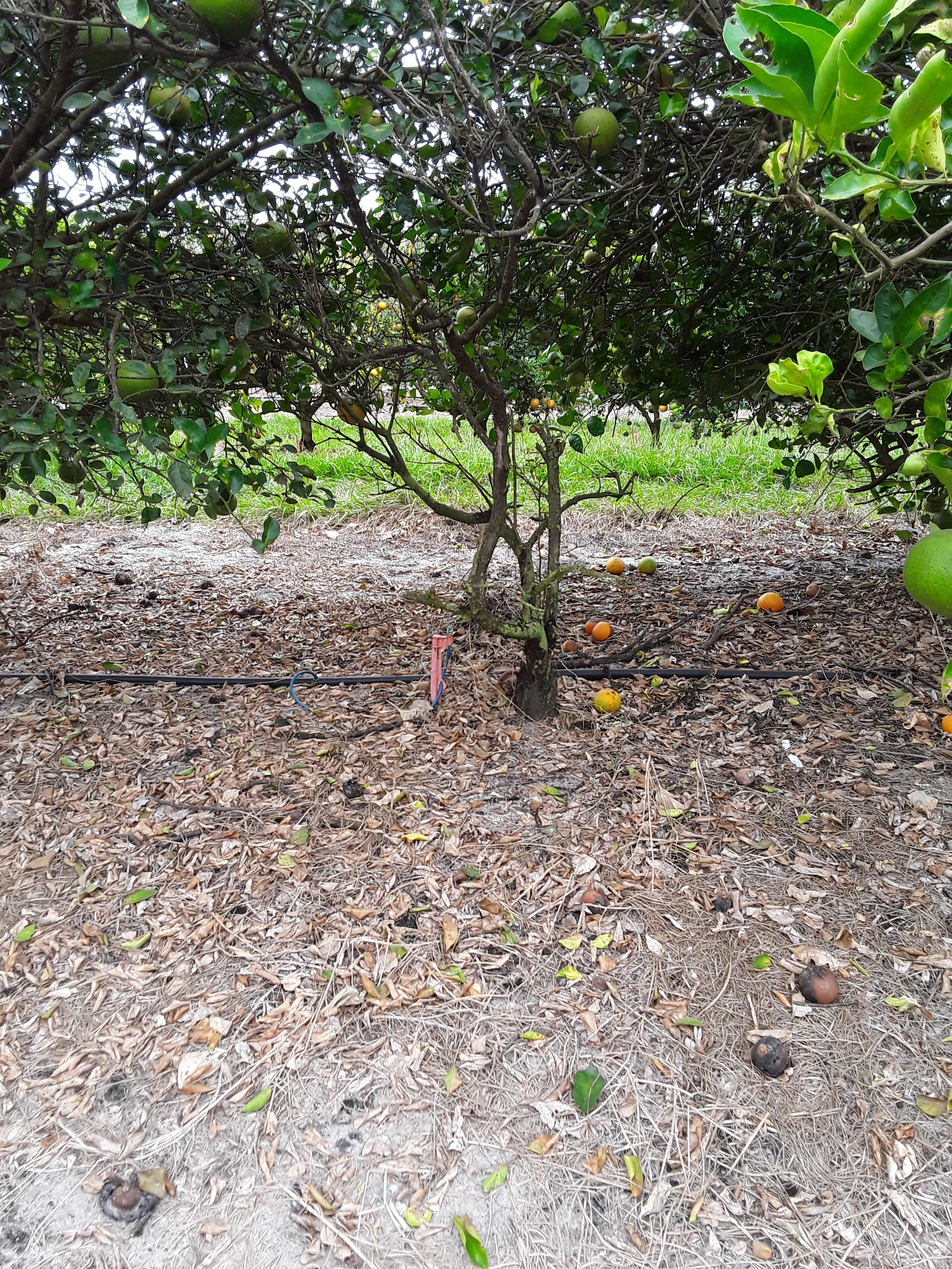fruit_on_ground: (182, 0, 264, 37), (77, 18, 132, 71), (574, 108, 619, 157), (145, 80, 190, 125), (114, 361, 159, 397), (537, 0, 581, 34), (252, 222, 294, 257), (305, 283, 340, 312), (336, 394, 367, 424), (550, 0, 576, 25), (620, 364, 642, 385), (621, 80, 645, 99), (457, 307, 476, 329), (518, 297, 537, 316), (794, 241, 814, 259), (362, 112, 383, 129), (583, 250, 602, 268), (526, 326, 544, 345), (567, 370, 585, 388), (546, 352, 560, 365), (406, 255, 416, 267), (378, 301, 387, 310), (531, 398, 539, 407), (674, 420, 682, 429), (514, 424, 522, 433), (658, 404, 668, 411), (548, 399, 555, 408), (392, 383, 399, 392), (254, 432, 262, 439), (451, 425, 458, 432), (530, 425, 536, 433), (394, 360, 400, 368), (369, 369, 377, 375), (396, 324, 402, 331), (378, 366, 383, 373), (534, 380, 539, 387), (369, 327, 374, 333), (454, 294, 458, 301)
fruit_on_tree: (100, 1177, 157, 1222), (795, 963, 841, 1004), (752, 1037, 790, 1076), (595, 689, 619, 715), (581, 889, 606, 911), (757, 592, 783, 612), (639, 558, 659, 575), (594, 621, 611, 641), (737, 768, 755, 785), (606, 558, 624, 574), (561, 638, 577, 653), (114, 573, 131, 586), (942, 714, 952, 736), (584, 618, 597, 632), (807, 584, 819, 596), (863, 523, 870, 528)
